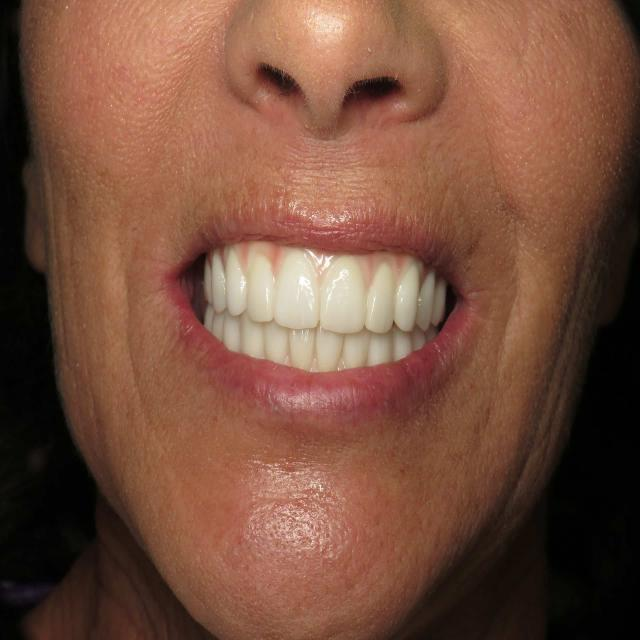tooth: (319, 260, 368, 335), (275, 249, 318, 329), (366, 265, 398, 337), (391, 260, 421, 336), (248, 254, 275, 321), (414, 274, 438, 334), (235, 324, 270, 361), (211, 255, 233, 311), (228, 251, 246, 317), (292, 334, 318, 378), (338, 332, 366, 372), (431, 280, 452, 322), (318, 335, 341, 370), (269, 328, 289, 368), (225, 321, 246, 359), (368, 337, 390, 369), (196, 261, 212, 303), (392, 336, 412, 363), (210, 310, 226, 340), (202, 310, 212, 337), (415, 338, 428, 348)
